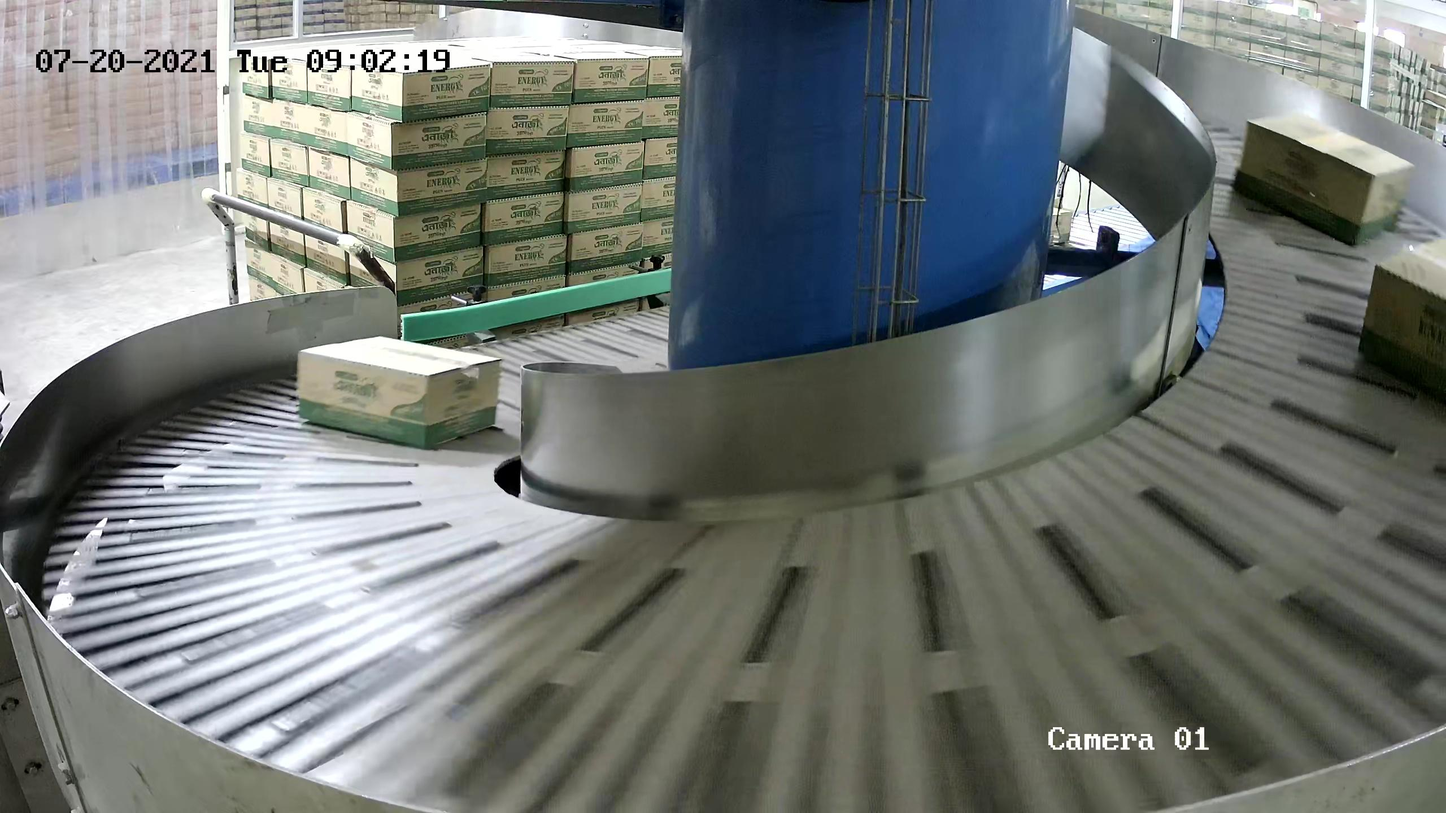Box: (1232, 111, 1417, 247), (295, 334, 503, 451), (1355, 234, 1446, 399)
